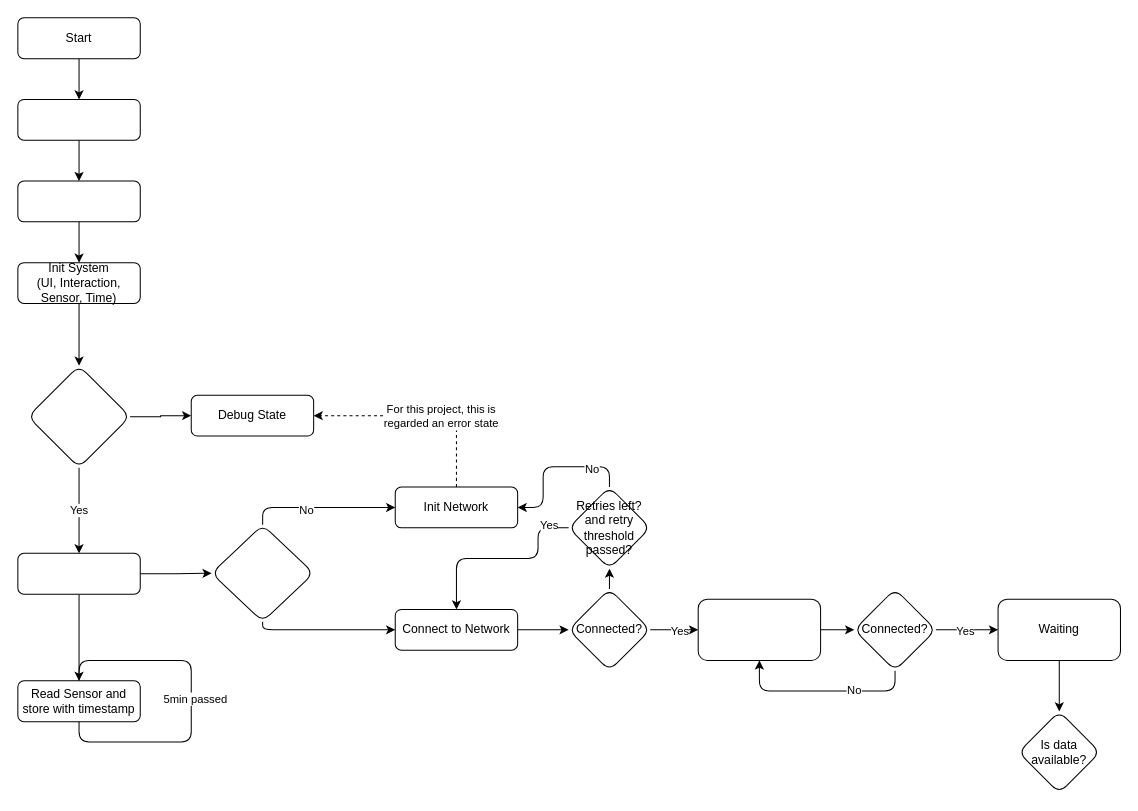
The diagram is 1138 pixels wide and 811 high, and some of its shapes have lost their labels. Each missing label, with the centre of its shape:
Connect to Server: the point at 759,629
Init Debug: the point at 78,201
Init STM32: the point at 78,119
Network Information available?: the point at 262,573
No Error?: the point at 78,416
Start System: the point at 78,573
